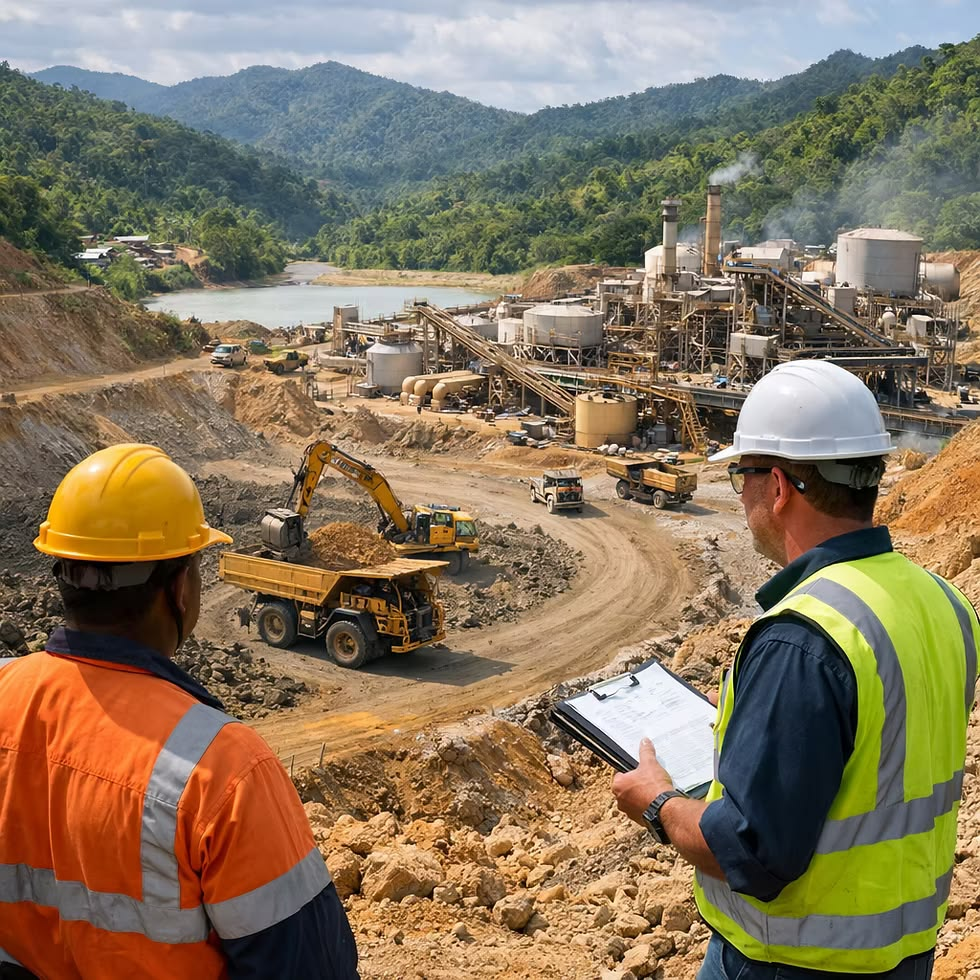excavator: (243, 407, 500, 556)
hardhat: (723, 350, 907, 489), (51, 430, 222, 575)
person: (598, 337, 971, 978), (9, 424, 380, 975)
safety_vest: (2, 643, 327, 977), (775, 565, 959, 972)
truck: (205, 523, 455, 690), (604, 420, 709, 526), (503, 442, 593, 529)
